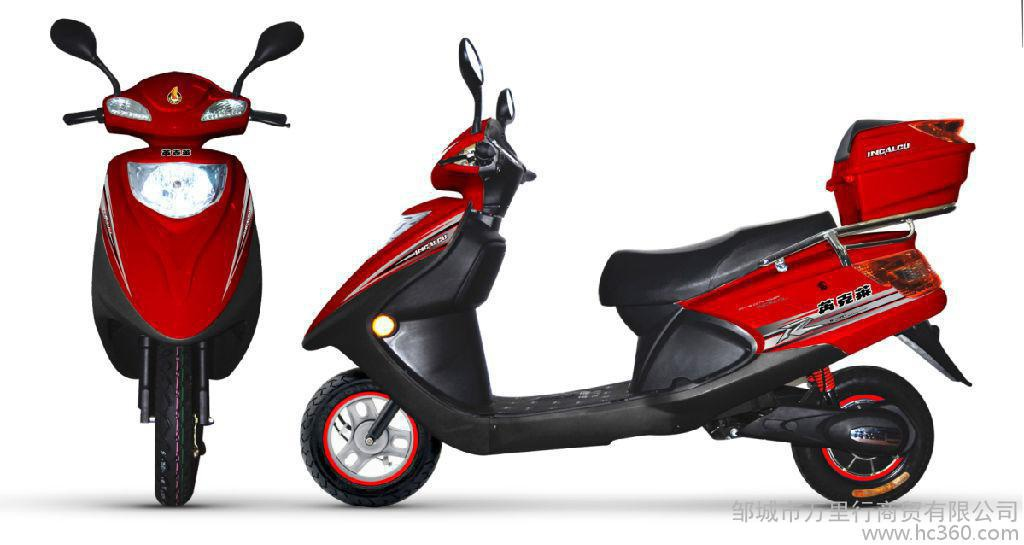non-vehicle: (301, 47, 975, 509), (48, 11, 303, 510)
